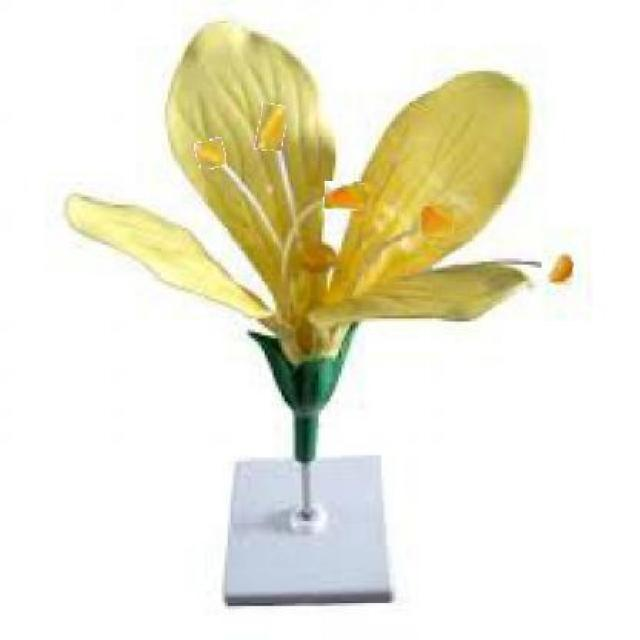Flower: (62, 17, 569, 358), (257, 104, 286, 151), (324, 181, 367, 212), (421, 205, 458, 239), (543, 252, 575, 285), (196, 139, 227, 170)
